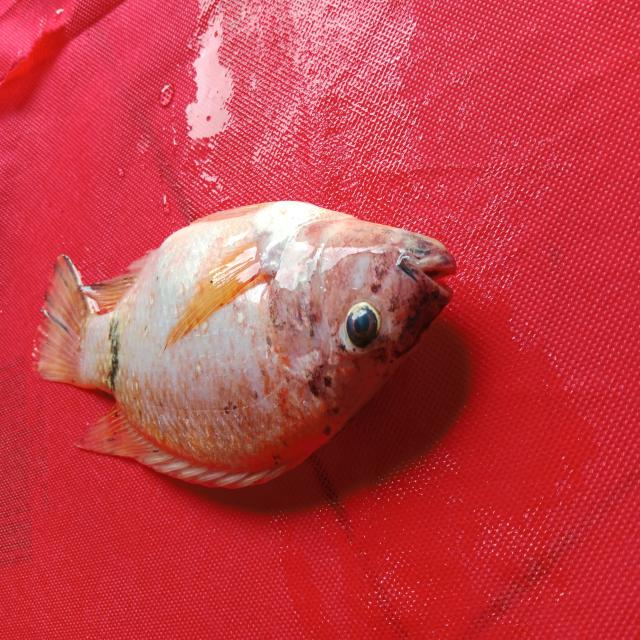ikan: (31, 199, 467, 503)
